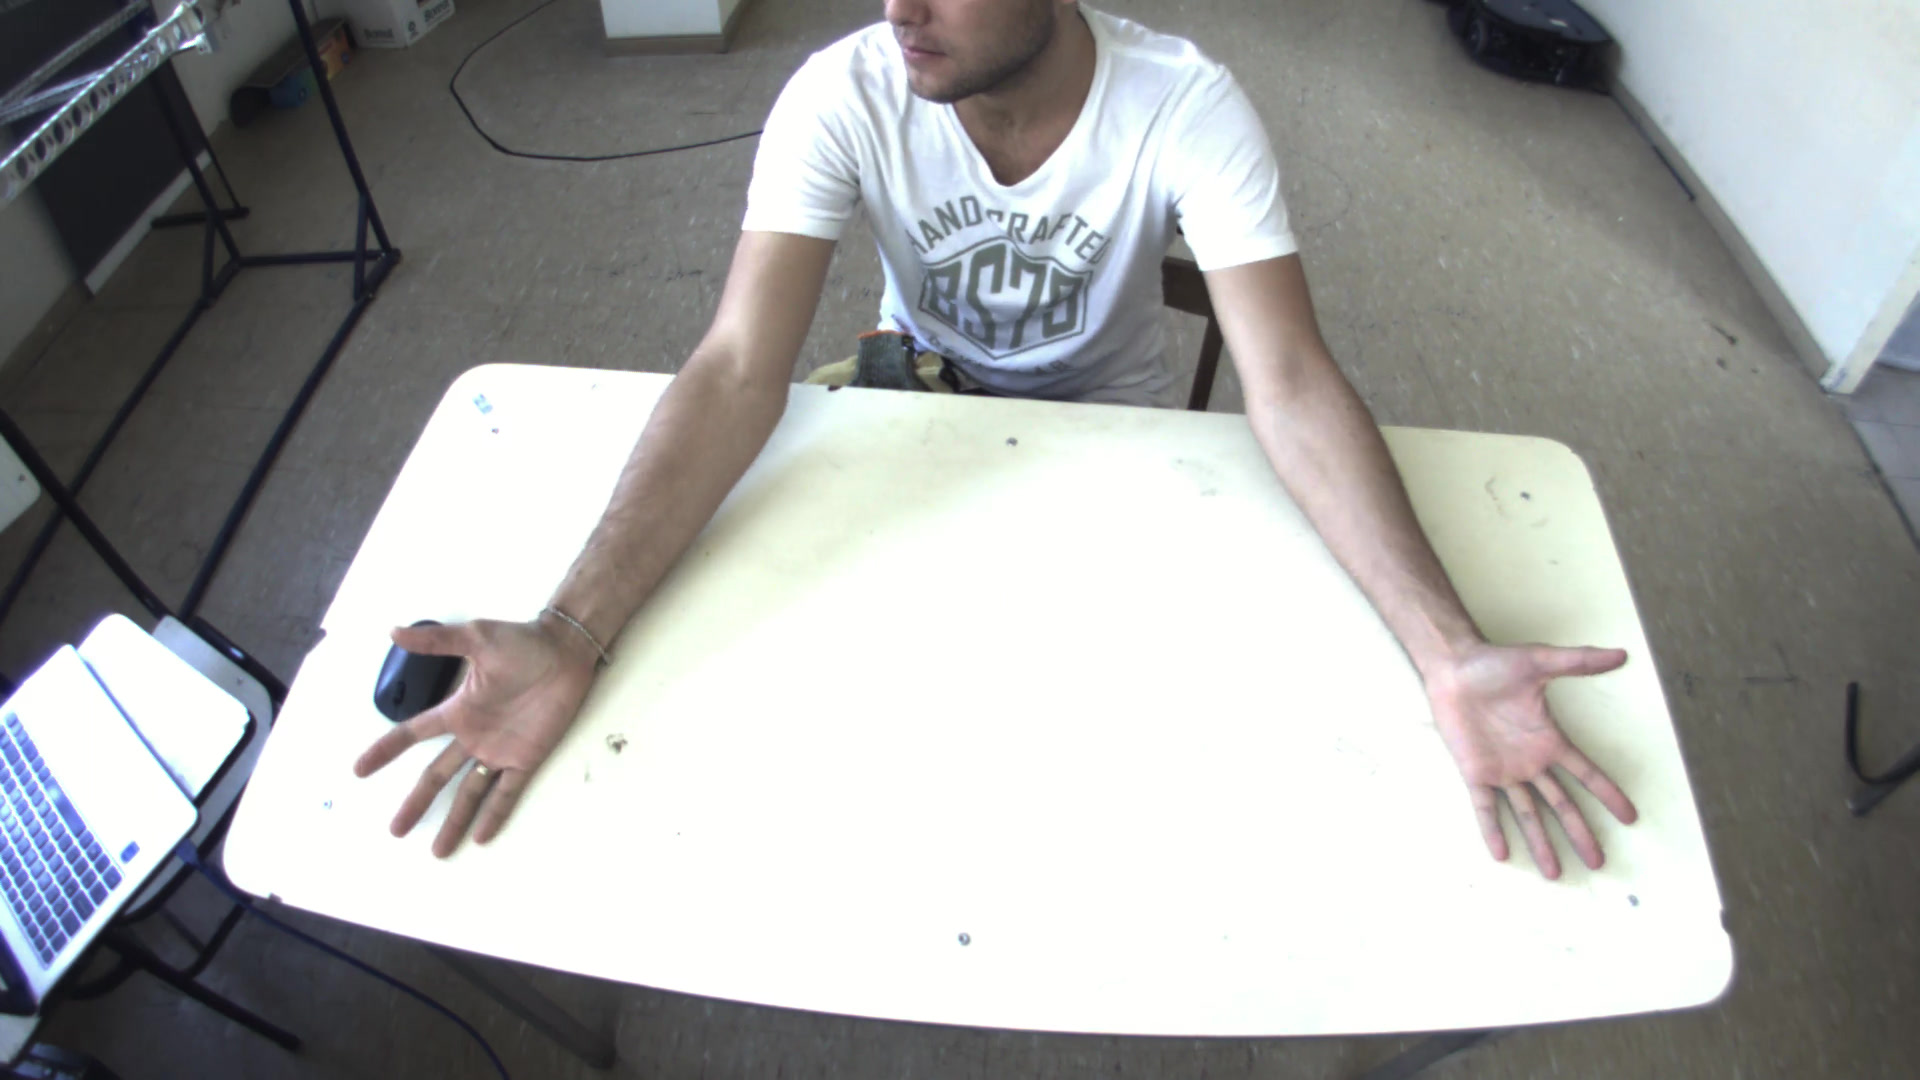hand: (331, 593, 595, 865), (1418, 613, 1665, 895)
